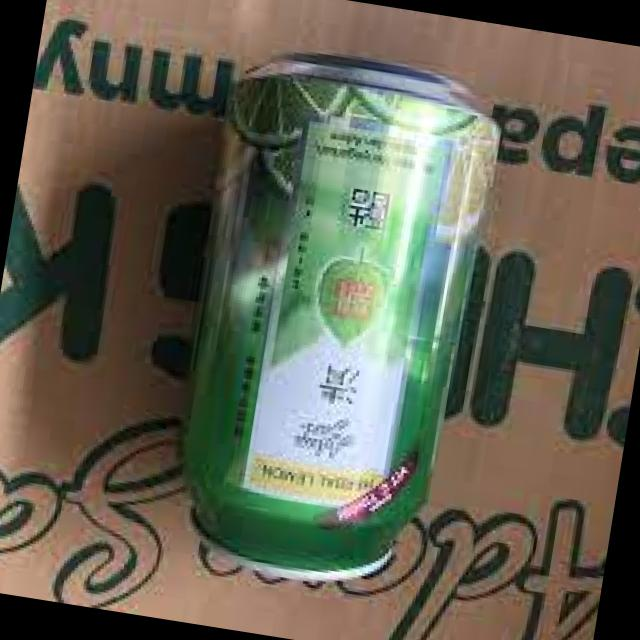ademsarikaleng: (153, 40, 514, 607)
